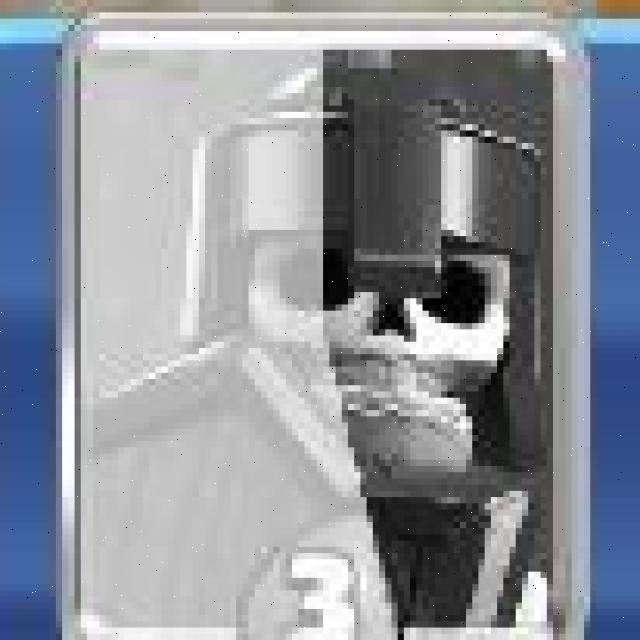Guards: (49, 15, 594, 638)
